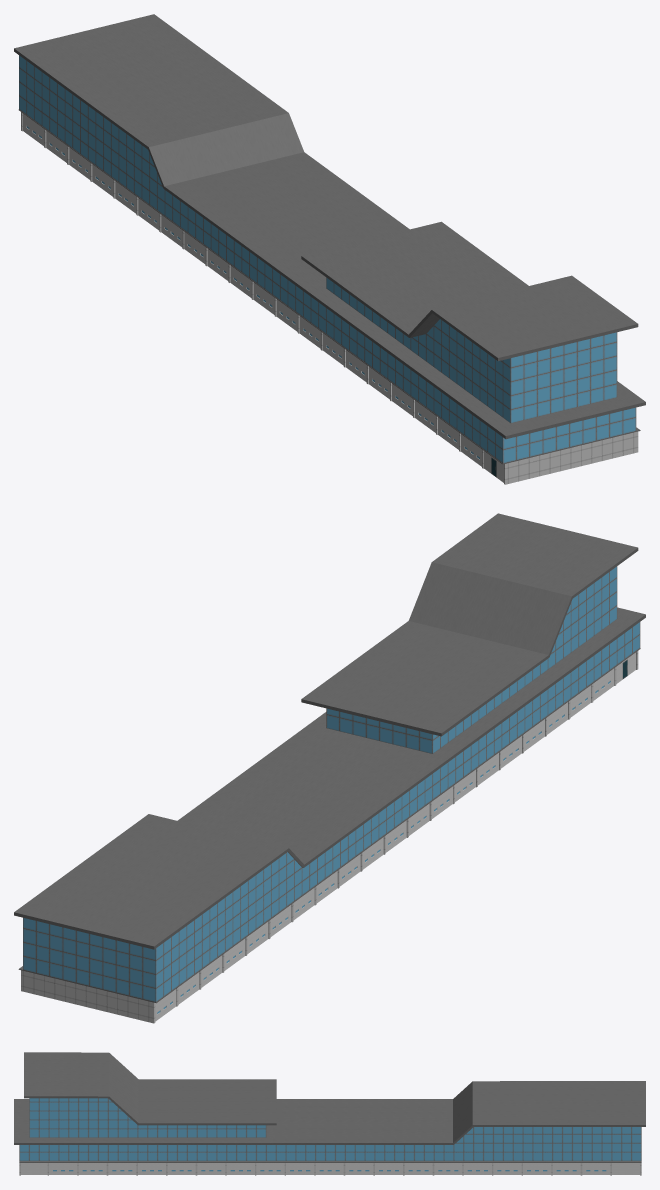
Rendered from BuildingL_.fbx.
3 views of the same model, one above another, from view 1: azimuth 30°, elevation 25°; view 2: azimuth 150°, elevation 25°; view 3: azimuth 270°, elevation 25° (orthographic). The views are drawn at different scales.
Visible parts, largest first — view 1: BuildingL_; view 2: BuildingL_; view 3: BuildingL_.
Part boxes in pixels (<box>): BuildingL_: <box>14,14,645,484</box>; BuildingL_: <box>14,513,645,1023</box>; BuildingL_: <box>14,1052,645,1175</box>.
Size of the model in its own units: 21.07 by 17.96 by 128.
Materials: 1 (1 with a texture image).
